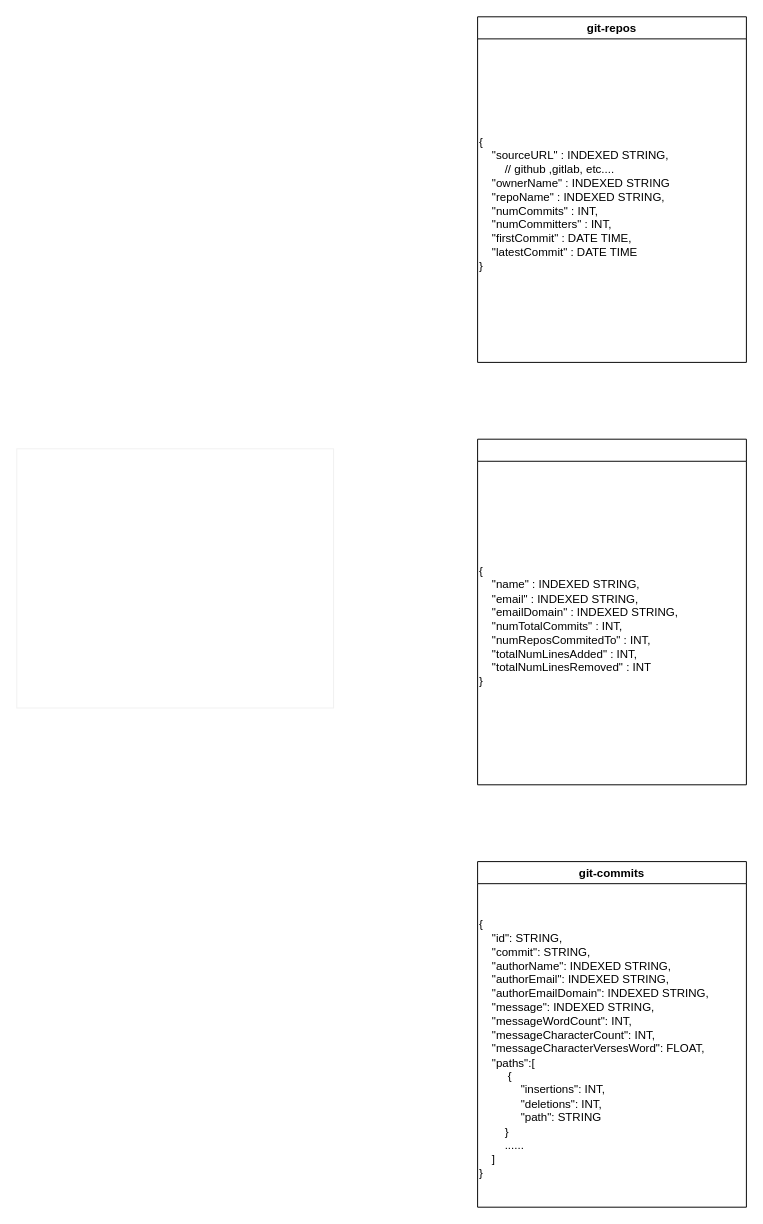
This 763x1224 diagram has some shape labels left out. The shapes that lost their labels are listed below. From the top down, each one's box as (x1, y1, x2, y2) in pixels, then its label:
(16, 448, 334, 708): Additional Analysis Filename Extension, Programming Language
(477, 438, 746, 785): git-committers
